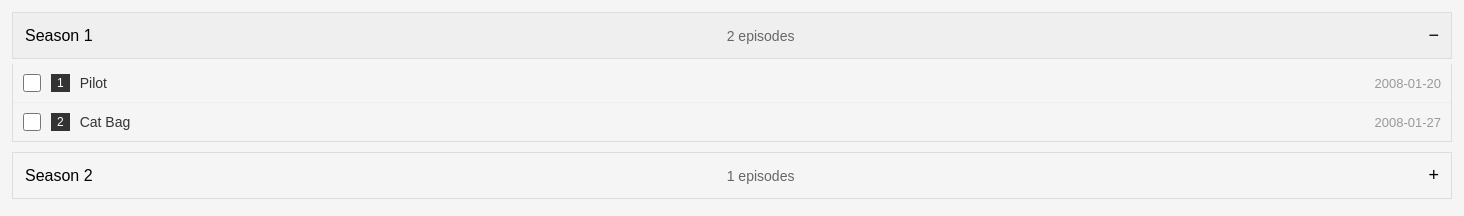
it: SeasonList › toggles seasons
Expected: the text "Test" is not shown
Click the text "Season 2": (59, 176) [25,166,93,184]
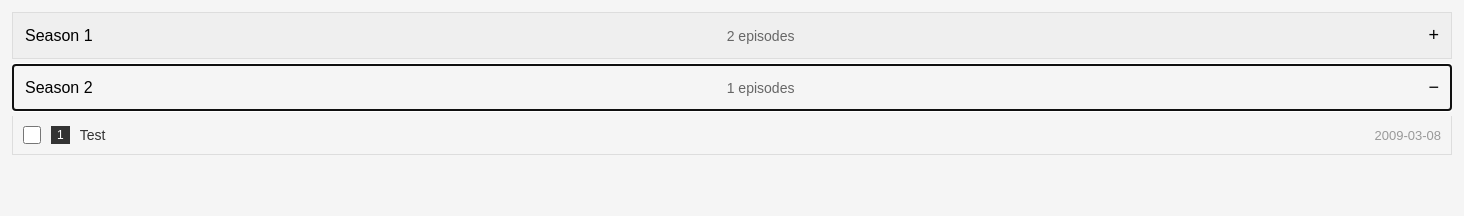
Expected: the text "Test" is shown, [80,127,105,143]
Click the text "Season 2": (59, 88) [25,78,93,96]
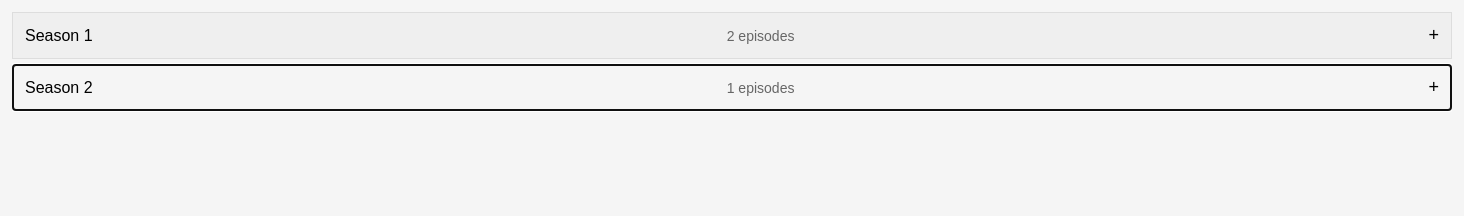
Expected: the text "Test" is gone
